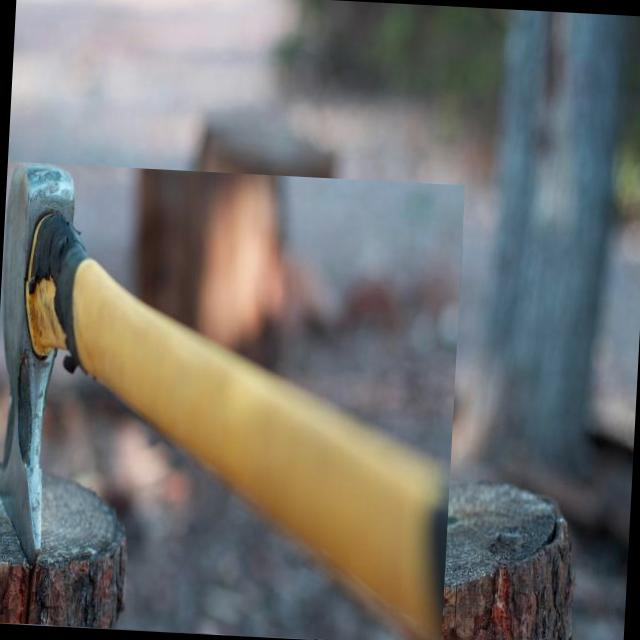Axe: (0, 163, 450, 640)
